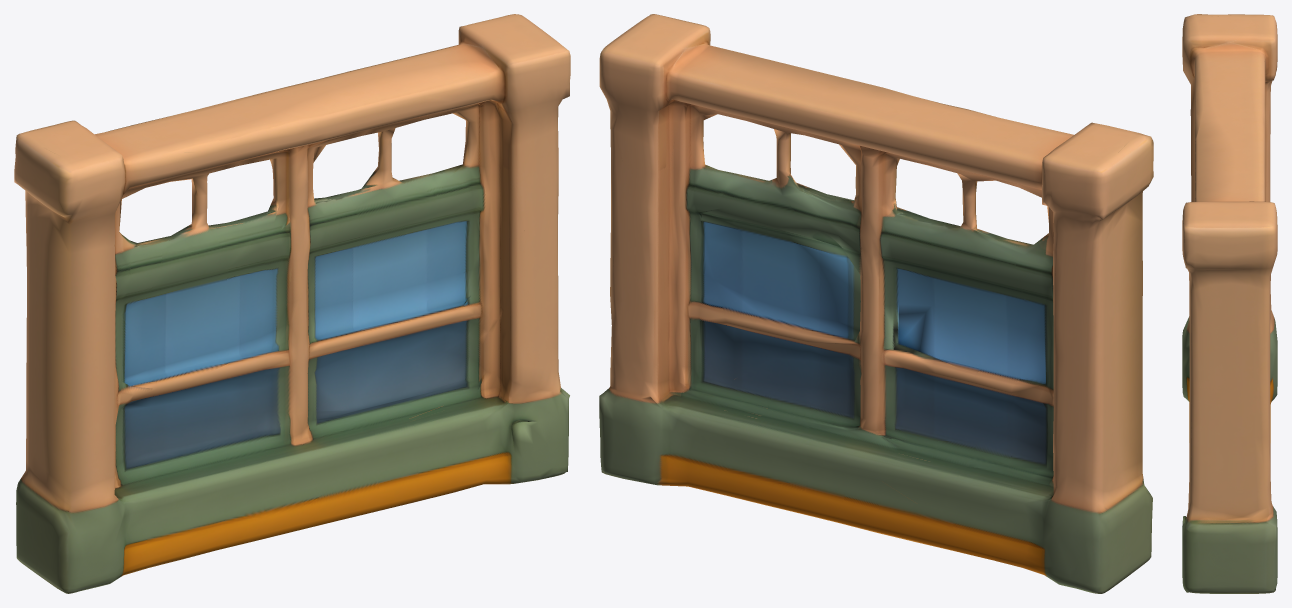
File: 15Wall2.fbx
The picture shows the model from 3 angles, left to right: view 1: azimuth 30°, elevation 25°; view 2: azimuth 150°, elevation 25°; view 3: azimuth 270°, elevation 25°; orthographic projection. The views are drawn at different scales.
Visible parts, largest first — view 1: Mesh_0; view 2: Mesh_0; view 3: Mesh_0.
Part boxes in pixels (x1,y1,x2,y2): Mesh_0: (14,14,570,593); Mesh_0: (599,14,1153,593); Mesh_0: (1182,14,1277,593).
Bounding box in the file's own units: 190 × 152 × 35.53.
